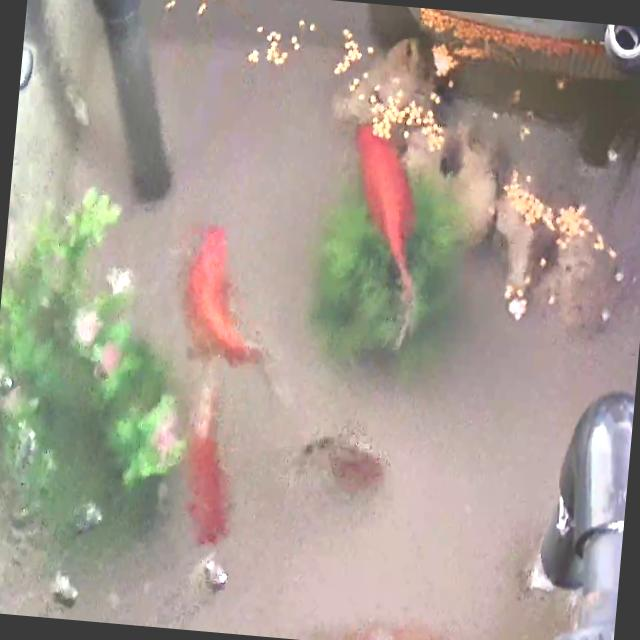fish: (340, 120, 427, 306), (178, 220, 275, 368), (178, 372, 242, 548), (310, 428, 400, 507), (322, 611, 438, 640)
